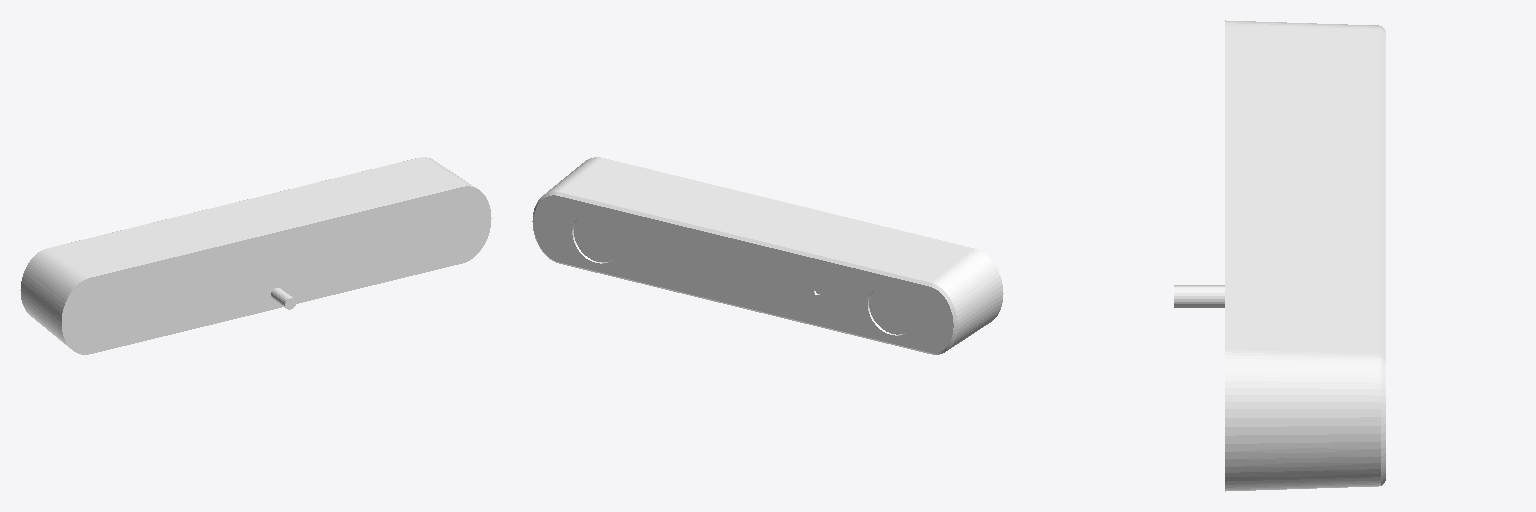
URDF robot description (ZED_camera.obj):
<robot name="ZED_camera.obj">
	<link name="_name">
		<visual>
			<origin xyz="0 0 0" rpy="0 0 0" />
			<geometry>
				<mesh filename="ZED_camera.obj" scale="0.0001 0.0001 0.0001" />
			</geometry>
			<material name="texture">
				<color rgba="1.0 1.0 1.0 1.0" />
			</material>
		</visual>
		<collision>
			<geometry>
				<mesh filename="ZED_camera_vhacd.obj" scale="0.0001 0.0001 0.0001" />
			</geometry>
		<origin xyz="0 0 0" rpy="0 0 0" /></collision>
		<inertial>
			<mass value="0.0" />
			<inertia ixx="1.0" ixy="0.0" ixz="0.0" iyy="1.0" iyz="0.0" izz="1.0" />
		</inertial>
	</link>
</robot>

--- Facts derived from the render (not from the file) ---
3 views of the same robot in one strip: view 1: azimuth 30°, elevation 25°; view 2: azimuth 150°, elevation 25°; view 3: azimuth 270°, elevation 25° (orthographic).
Robot: ZED_camera.obj — 1 links, 0 joints (none); root link _name; default pose: every joint at zero.
Visible links, largest first — view 1: _name; view 2: _name; view 3: _name.
Link boxes in pixels (x1,y1,x2,y2): _name: (20,157,491,354); _name: (532,157,1003,354); _name: (1174,20,1385,491).
Size in the robot's own frame: 0.1747 by 0.0416 by 0.0297 metres.
Meshes: 1 distinct files referenced, 1 mesh visuals loaded (1 OBJ).